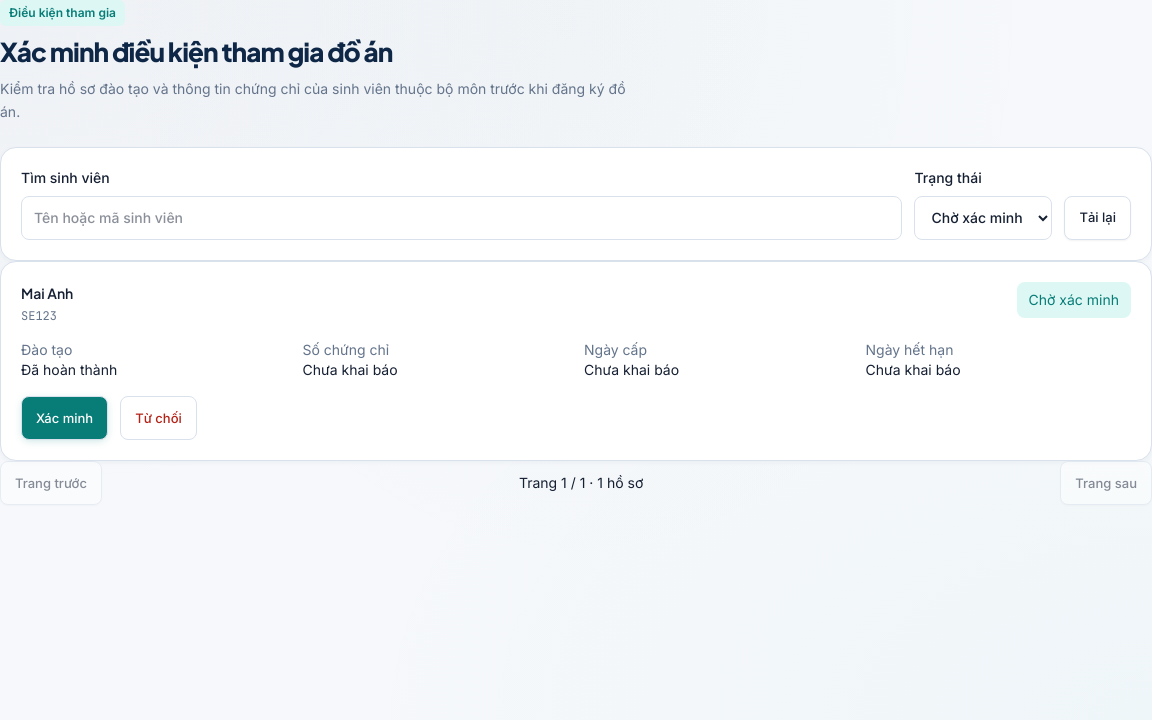
Test case: reloads after a conflict without retrying a verification
Step 1. Click the button "Xác minh" → coordinates (65, 418), box [21, 396, 108, 440]
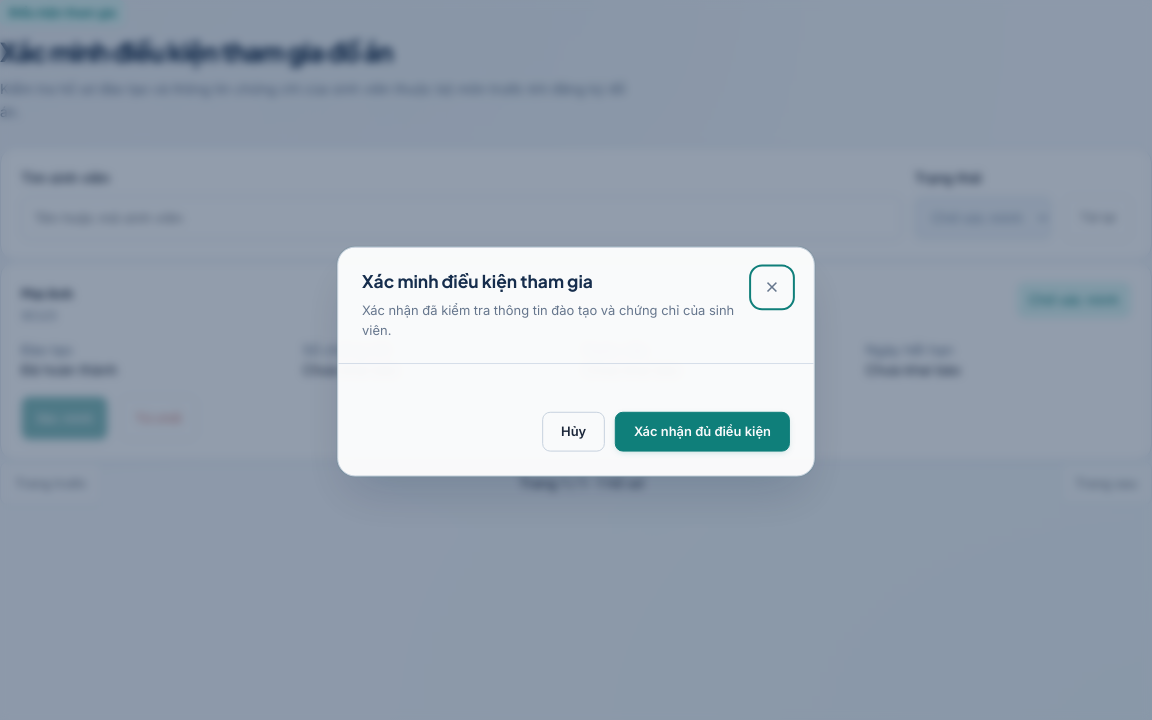
Step 2. Click the button "Xác nhận đủ điều kiện" → coordinates (703, 431), box [615, 411, 791, 451]
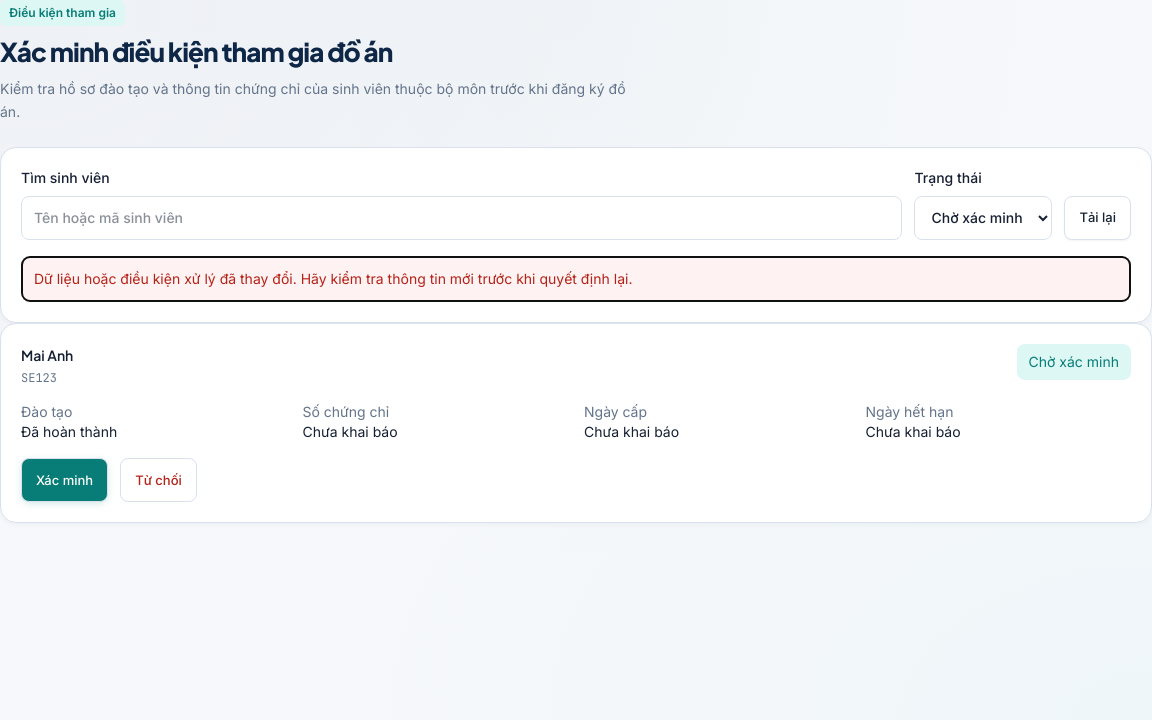
Expected: the message shows "thay đổi", [34, 270, 632, 287]
